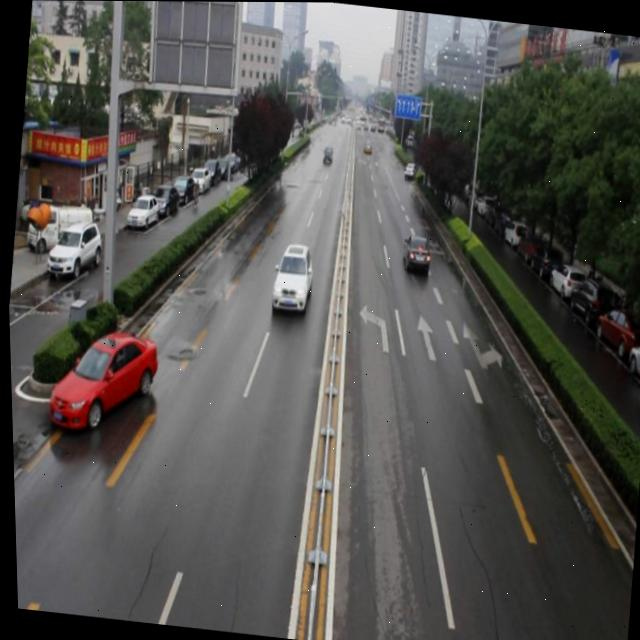car: (42, 319, 162, 439), (264, 238, 315, 314), (398, 231, 430, 273), (402, 159, 415, 180)
truck: (319, 144, 332, 163)
